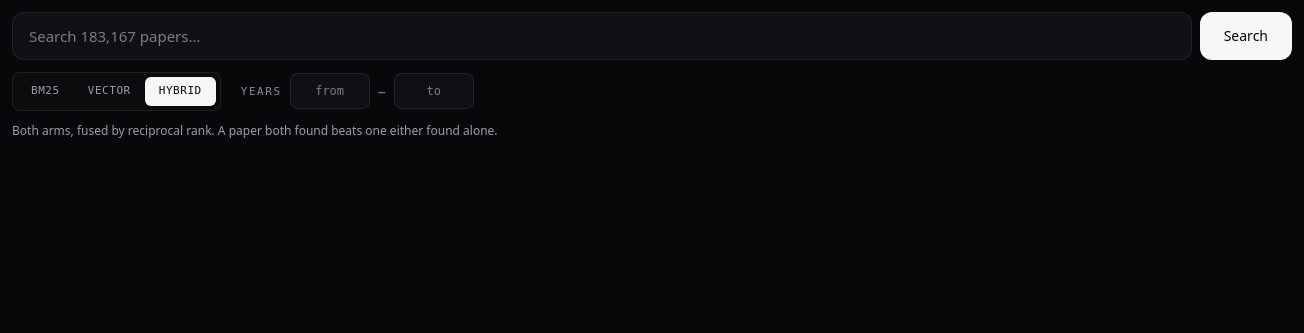
App › renders returned papers with the query's took_ms
Type "anything" into the field named "Query" at {"x": 602, "y": 36}, box top-left (12, 12), bottom-right (1192, 60)
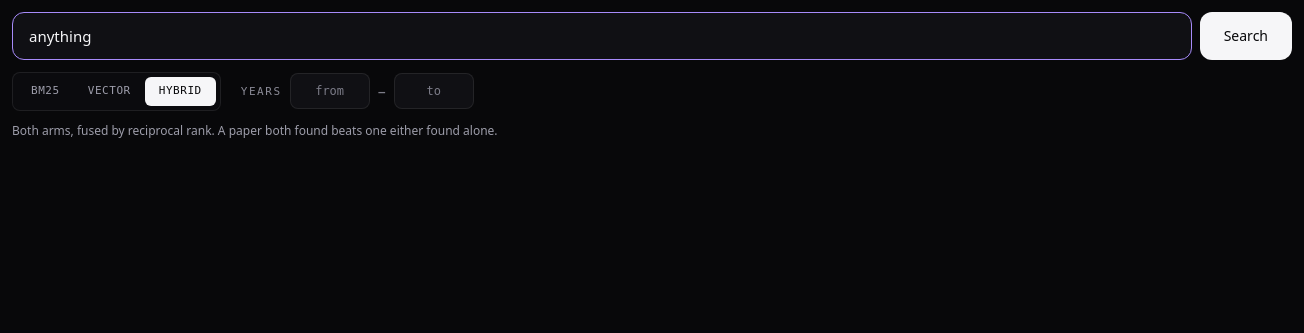
Click the button "Search" at {"x": 1246, "y": 36}, box top-left (1200, 12), bottom-right (1292, 60)
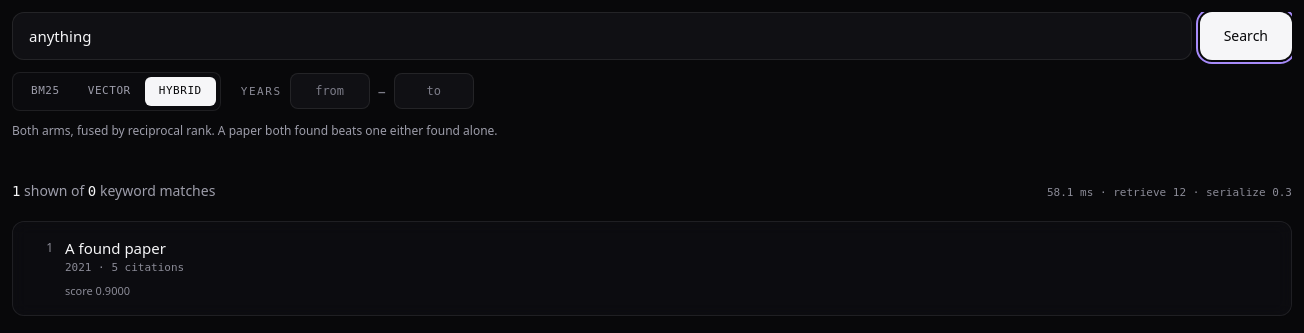
Result: the heading "A found paper" is shown at top-left (65, 238), bottom-right (166, 258)
Result: the text "58.1 ms · retrieve 12 · serialize 0.3" is shown at top-left (1047, 184), bottom-right (1292, 200)
Result: the text "1 shown of 0 keyword matches" is shown at top-left (12, 180), bottom-right (215, 200)
